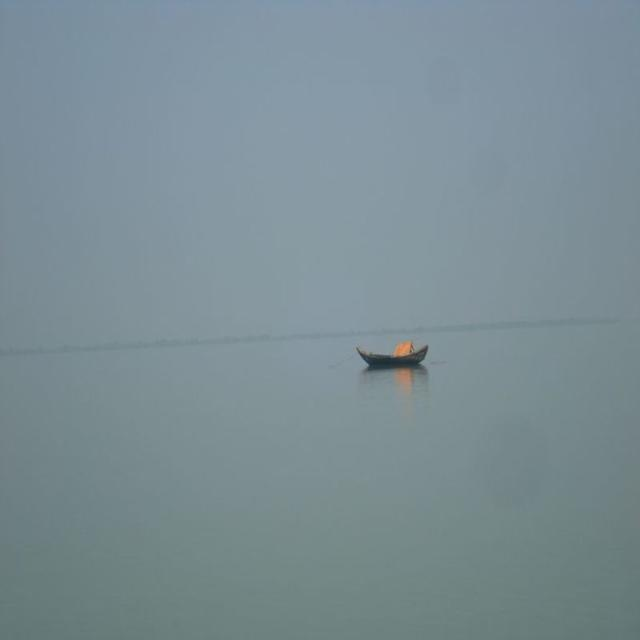Boat: (355, 330, 434, 376)
